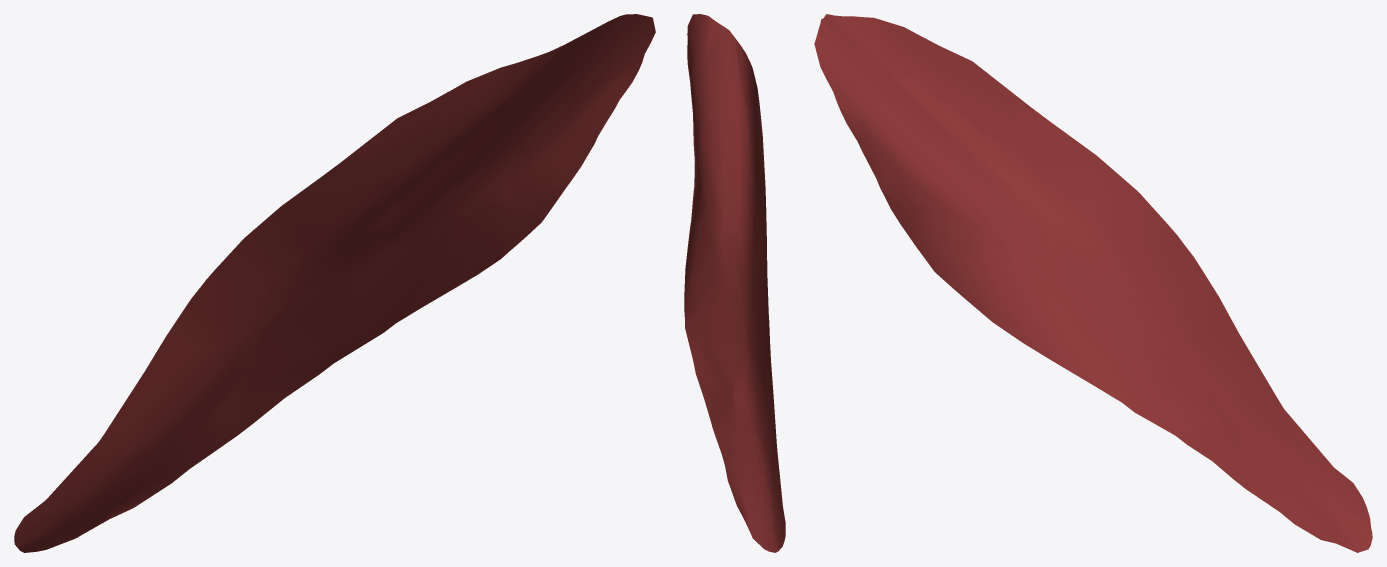
File: teres-minor-muscle-ol.glb
3 views of the same model, side by side, from view 1: azimuth 30°, elevation 25°; view 2: azimuth 150°, elevation 25°; view 3: azimuth 270°, elevation 25° (orthographic). The views are drawn at different scales.
Visible parts, largest first — view 1: Teres minor muscle.ol; view 2: Teres minor muscle.ol; view 3: Teres minor muscle.ol.
Part boxes in pixels (x1,y1,x2,y2): Teres minor muscle.ol: [14, 14, 655, 552]; Teres minor muscle.ol: [684, 14, 785, 552]; Teres minor muscle.ol: [814, 14, 1372, 552].
Size of the model in its own units: 0.0365 by 0.0548 by 0.0387.
